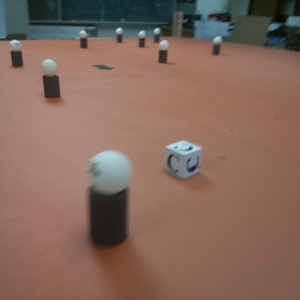obstacle: (86, 152, 129, 245), (42, 59, 60, 101), (10, 39, 23, 68), (158, 40, 168, 63), (79, 29, 88, 49), (211, 36, 220, 54), (115, 28, 124, 45), (153, 27, 161, 44), (139, 30, 145, 48)
